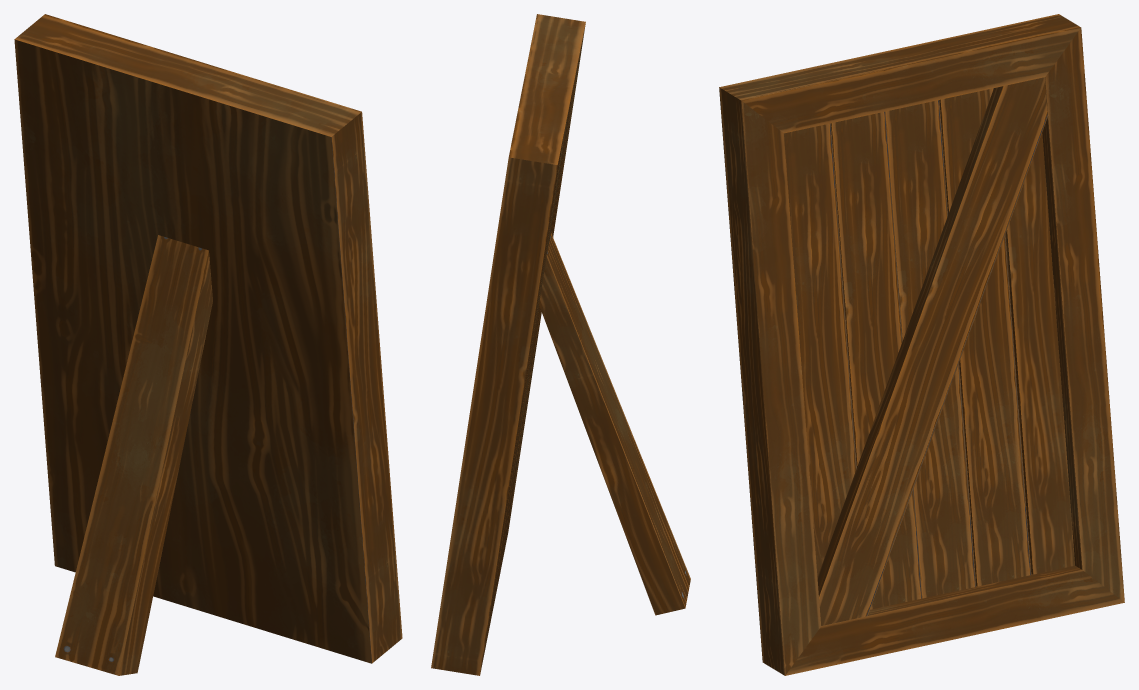
The picture shows the model from 3 angles, left to right: view 1: azimuth 30°, elevation 25°; view 2: azimuth 150°, elevation 25°; view 3: azimuth 270°, elevation 25°; orthographic projection. The views are drawn at different scales.
Visible parts, largest first — view 1: Cube.477; view 2: Cube.477; view 3: Cube.477.
Boxes of the visible parts, box(x1,y1,x2,y2) form: Cube.477: box(14, 14, 402, 675); Cube.477: box(431, 14, 690, 675); Cube.477: box(719, 14, 1124, 675).
Bounding box in the file's own units: 187 × 343 × 226.
Materials: 1 (1 with a texture image).
